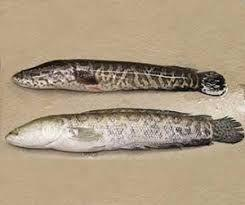Snakehead: (5, 106, 244, 152), (12, 58, 229, 96)
